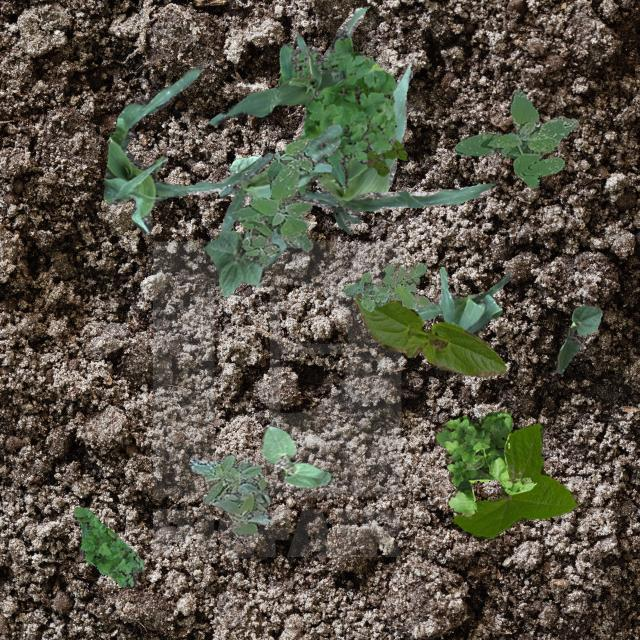crop: (292, 6, 494, 232), (102, 65, 240, 232), (452, 422, 576, 538), (218, 124, 340, 234), (354, 294, 506, 376), (208, 34, 344, 124), (412, 266, 512, 332), (200, 227, 286, 296), (258, 423, 332, 488), (556, 304, 600, 372), (227, 153, 260, 194)
weed: (278, 30, 396, 196), (453, 88, 578, 186), (230, 137, 314, 266), (434, 408, 534, 516), (188, 454, 268, 538), (73, 506, 144, 586), (342, 262, 428, 310), (366, 138, 406, 176)
